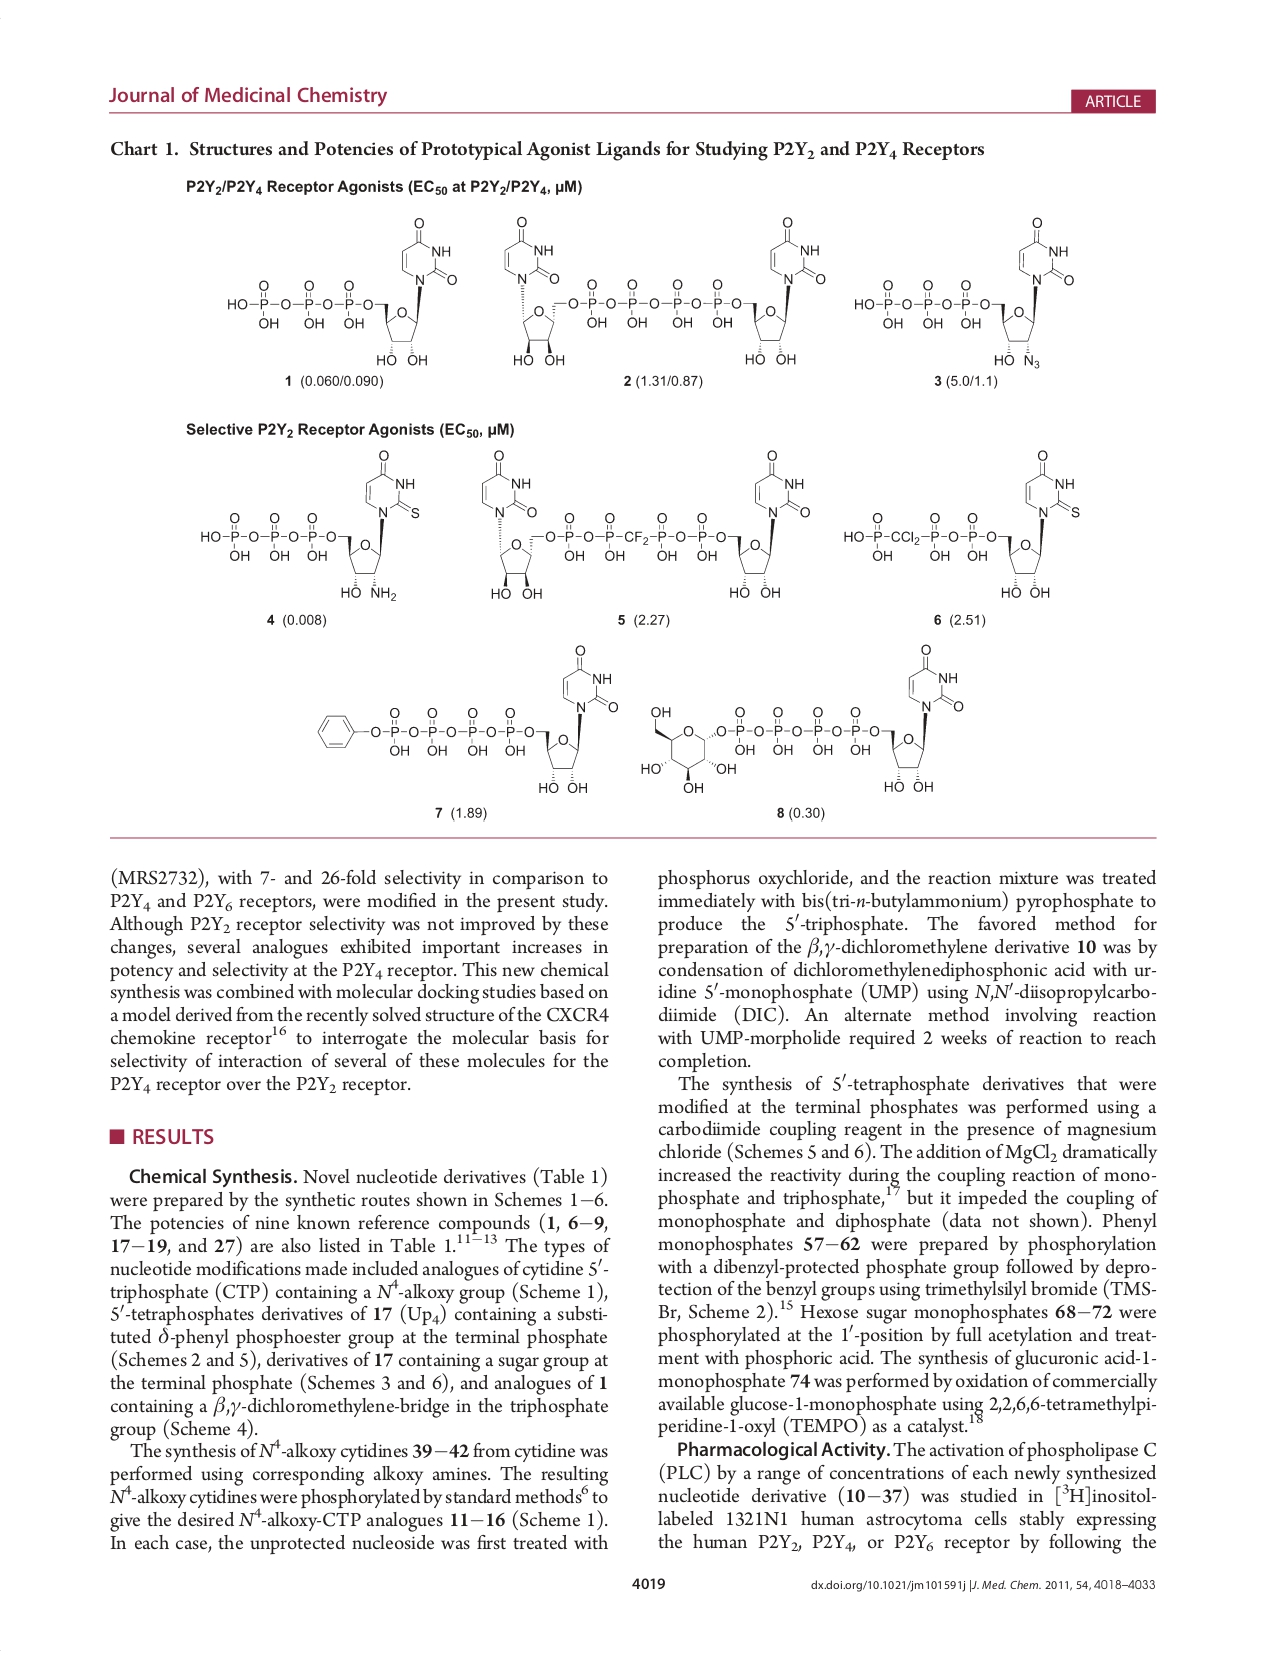exist_molecular: (464, 446, 814, 606), (497, 211, 828, 371), (640, 644, 965, 795), (315, 642, 621, 797), (839, 447, 1085, 601), (225, 214, 460, 368), (195, 446, 422, 602), (852, 215, 1076, 370)
